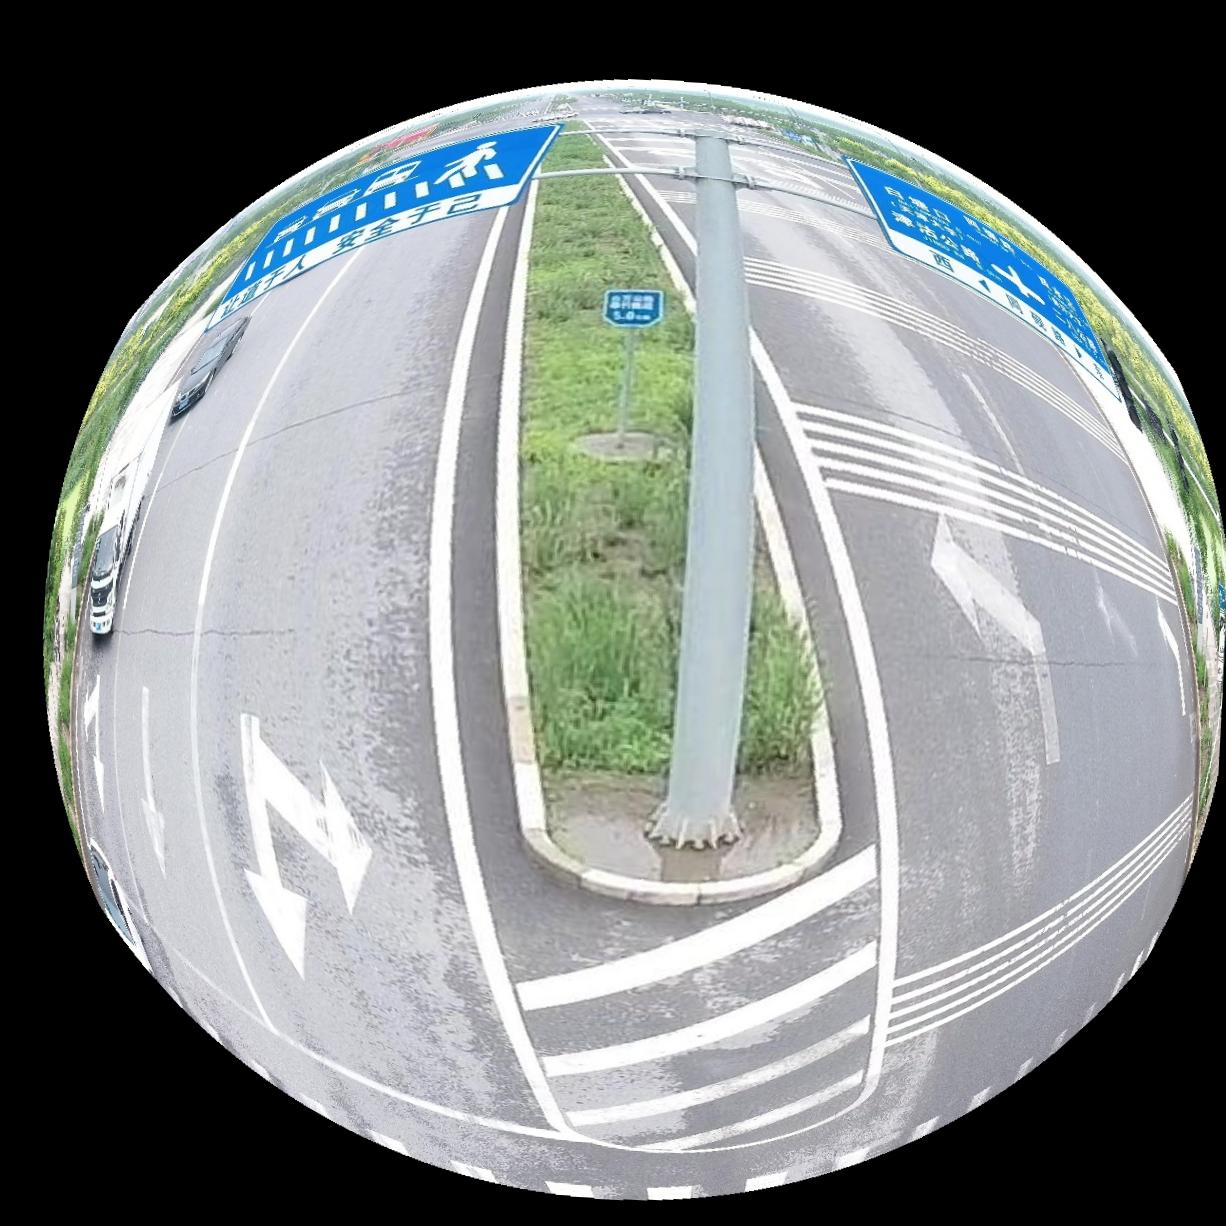cars: (85, 386, 173, 635), (85, 841, 148, 971), (170, 316, 249, 419)
